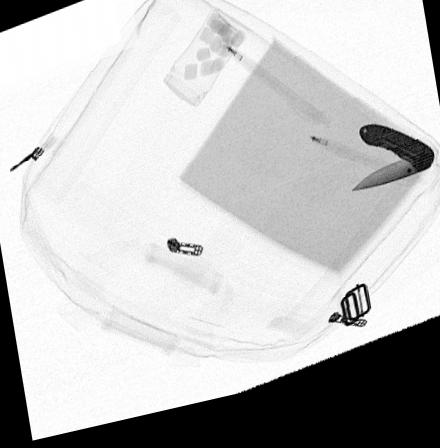Knife: (349, 139, 437, 209)
